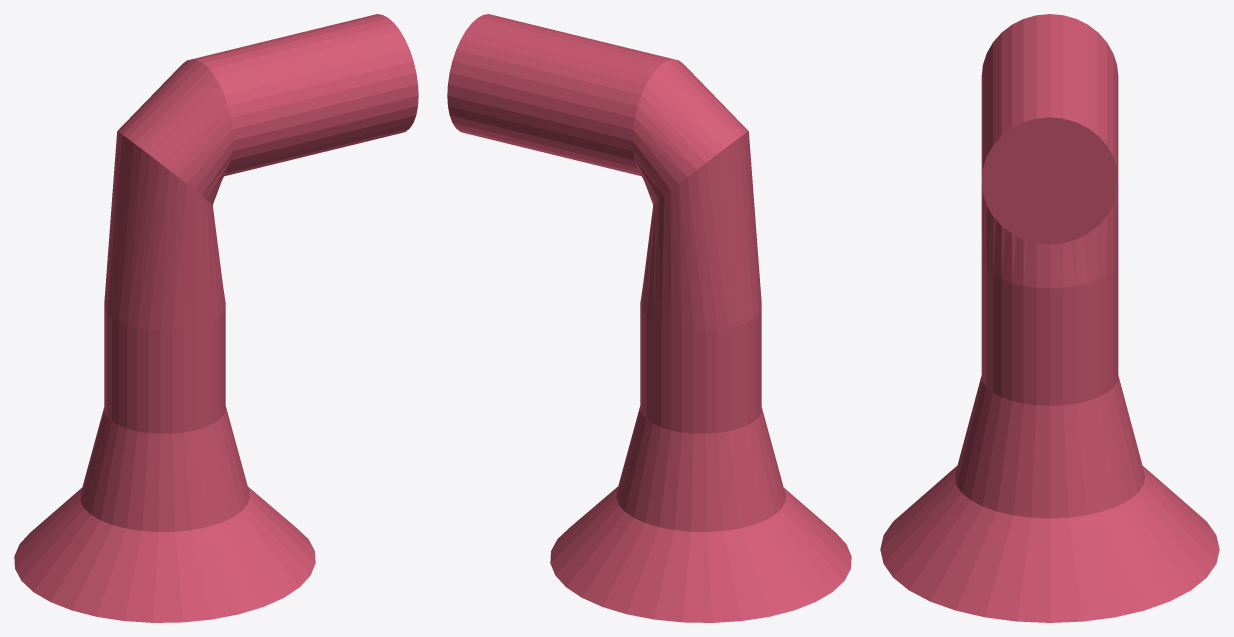
3 renders of one model, left to right at view 1: azimuth 30°, elevation 25°; view 2: azimuth 150°, elevation 25°; view 3: azimuth 270°, elevation 25°, orthographic. The views are drawn at different scales.
Visible parts, largest first — view 1: link_6_collision; view 2: link_6_collision; view 3: link_6_collision.
Part boxes in pixels (x1=…): link_6_collision: x1=14, y1=14, x2=418, y2=622; link_6_collision: x1=447, y1=14, x2=851, y2=622; link_6_collision: x1=880, y1=14, x2=1219, y2=622.
Size of the model in its own units: 0.1547 by 0.112 by 0.2027.
